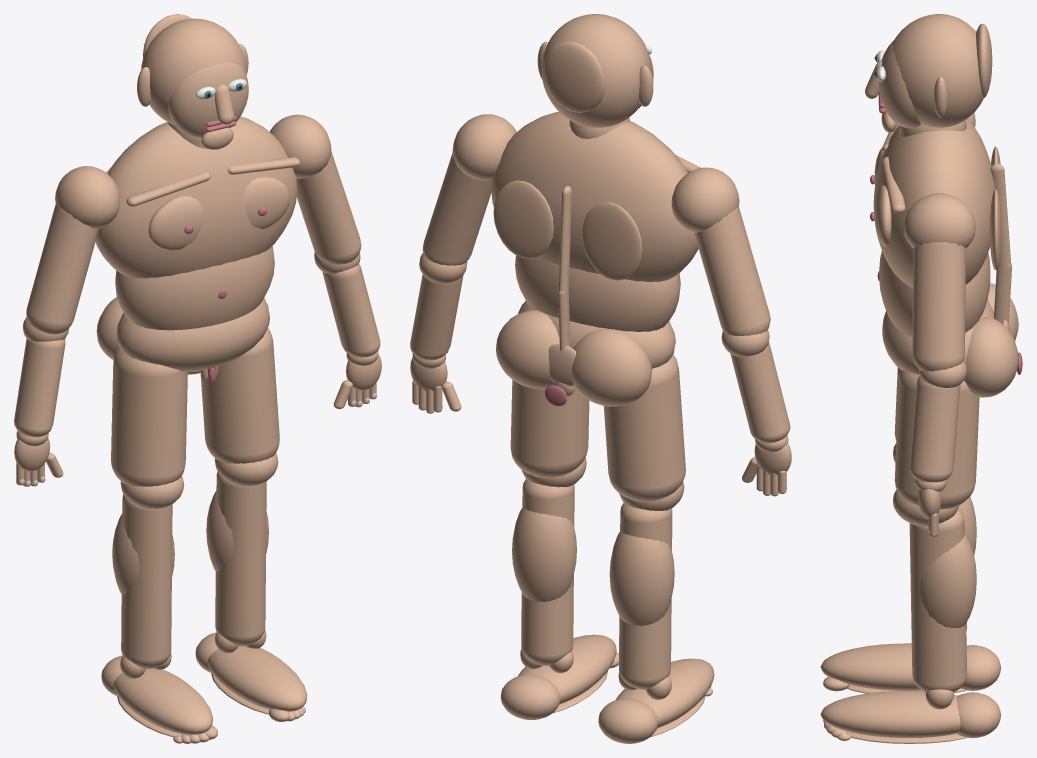
Rendered from body-kind-weiblich-v2.glb.
The picture shows the model from 3 angles, left to right: view 1: azimuth 30°, elevation 25°; view 2: azimuth 150°, elevation 25°; view 3: azimuth 270°, elevation 25°; orthographic projection. The views are drawn at different scales.
Parts seen in each view (by area): view 1: zone__surface-chest, zone__surface-thigh-left, zone__surface-abdomen, zone__surface-thigh-right, zone__surface-lower-leg-right, zone__surface-lower-leg-left, zone__surface-pelvis, zone__surface-upper-arm-left, zone__surface-scalp, zone__surface-upper-arm-right, zone__surface-foot-right, zone__surface-foot-left (+17 smaller); view 2: zone__surface-chest, zone__surface-thigh-left, zone__surface-abdomen, zone__surface-scalp, zone__surface-thigh-right, zone__surface-upper-arm-left, zone__surface-calf-left, zone__surface-calf-right, zone__surface-buttock-left, zone__surface-lower-leg-right, zone__surface-lower-leg-left, zone__surface-upper-arm-right (+22 smaller); view 3: zone__surface-chest, zone__surface-scalp, zone__surface-upper-arm-right, zone__surface-lower-leg-right, zone__surface-foot-right, zone__surface-thigh-right, zone__surface-forearm-right, zone__surface-calf-right, zone__surface-foot-left, zone__surface-buttock-right, zone__surface-shoulder-right, zone__surface-abdomen (+19 smaller).
Part boxes in pixels (x1,y1,x2,y2): zone__surface-chest: (95, 116, 297, 278); zone__surface-thigh-left: (111, 347, 187, 486); zone__surface-abdomen: (115, 246, 274, 330); zone__surface-thigh-right: (200, 328, 279, 463); zone__surface-lower-leg-right: (215, 471, 266, 646); zone__surface-lower-leg-left: (121, 494, 172, 669); zone__surface-pelvis: (116, 298, 269, 372); zone__surface-upper-arm-left: (26, 204, 98, 334); zone__surface-scalp: (141, 18, 246, 125); zone__surface-upper-arm-right: (296, 151, 361, 264); zone__surface-foot-right: (207, 646, 307, 711); zone__surface-foot-left: (113, 668, 212, 734); zone__surface-chest: (491, 111, 698, 282); zone__surface-thigh-left: (603, 354, 685, 501); zone__surface-abdomen: (515, 255, 680, 331); zone__surface-scalp: (541, 14, 651, 127); zone__surface-thigh-right: (510, 379, 589, 477); zone__surface-upper-arm-left: (694, 207, 770, 335); zone__surface-calf-left: (609, 531, 674, 625); zone__surface-calf-right: (512, 508, 576, 601); zone__surface-buttock-left: (571, 329, 651, 406); zone__surface-lower-leg-right: (521, 479, 574, 665); zone__surface-lower-leg-left: (619, 503, 672, 689); zone__surface-upper-arm-right: (422, 152, 491, 265); zone__surface-chest: (873, 118, 994, 287); zone__surface-scalp: (892, 14, 983, 127); zone__surface-upper-arm-right: (912, 242, 965, 371); zone__surface-lower-leg-right: (909, 509, 967, 692); zone__surface-foot-right: (820, 690, 960, 737); zone__surface-thigh-right: (894, 370, 979, 509); zone__surface-forearm-right: (909, 376, 960, 482); zone__surface-calf-right: (919, 534, 976, 628); zone__surface-foot-left: (820, 643, 921, 690); zone__surface-buttock-right: (964, 317, 1018, 397); zone__surface-shoulder-right: (904, 193, 975, 248); zone__surface-abdomen: (879, 251, 990, 337).
Bounding box in the file's own units: 0.8084 × 1.42 × 0.3758.
